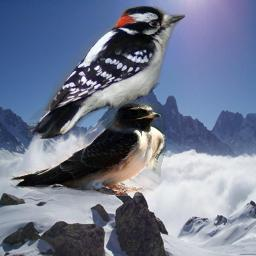Swallow: (8, 102, 166, 196)
Woodpecker: (27, 6, 185, 139)
